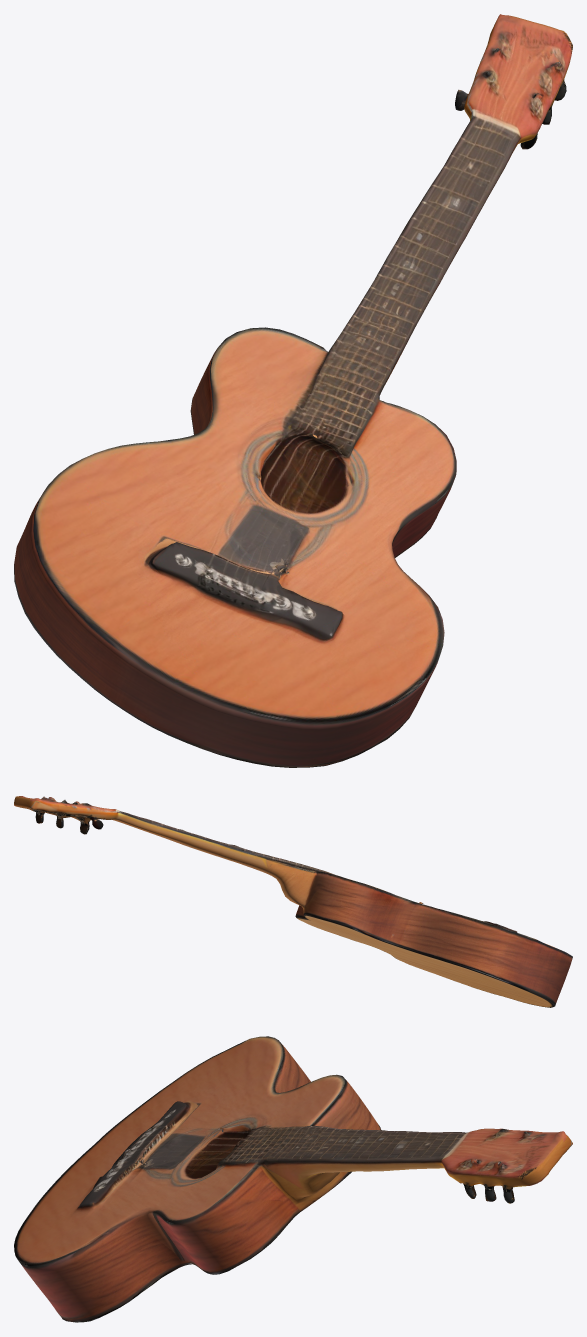
Rendered from guitar.glb.
3 renders of one model, top to bottom at view 1: azimuth 30°, elevation 25°; view 2: azimuth 150°, elevation 25°; view 3: azimuth 270°, elevation 25°, orthographic. The views are drawn at different scales.
Visible parts, largest first — view 1: Mesh_0; view 2: Mesh_0; view 3: Mesh_0.
Part boxes in pixels (bbox=[...]): Mesh_0: bbox=[14, 14, 572, 767]; Mesh_0: bbox=[14, 796, 572, 1007]; Mesh_0: bbox=[14, 1036, 572, 1322].
Bounding box in the file's own units: 1.76 × 1 × 1.38.
Materials: 1 (1 with a texture image).
